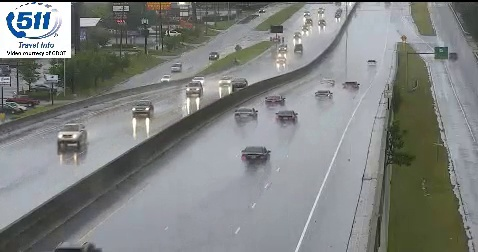car: (240, 146, 270, 164), (235, 107, 257, 123), (276, 110, 298, 126), (265, 95, 284, 107), (315, 90, 332, 102)
